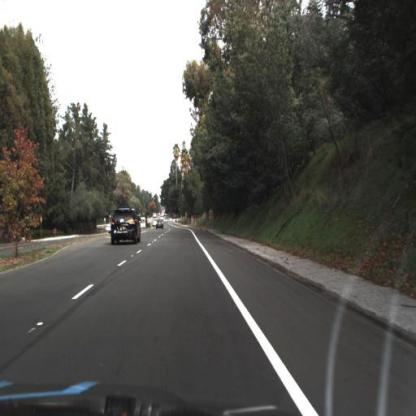car: (113, 209, 141, 246), (154, 216, 166, 233)
